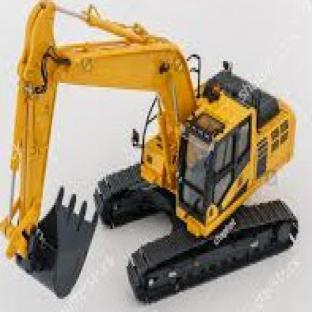ExcavationMachinery: (17, 5, 307, 298)
